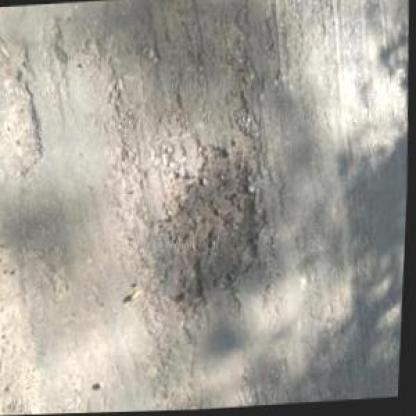pothole: (159, 141, 272, 302), (0, 73, 50, 172)
